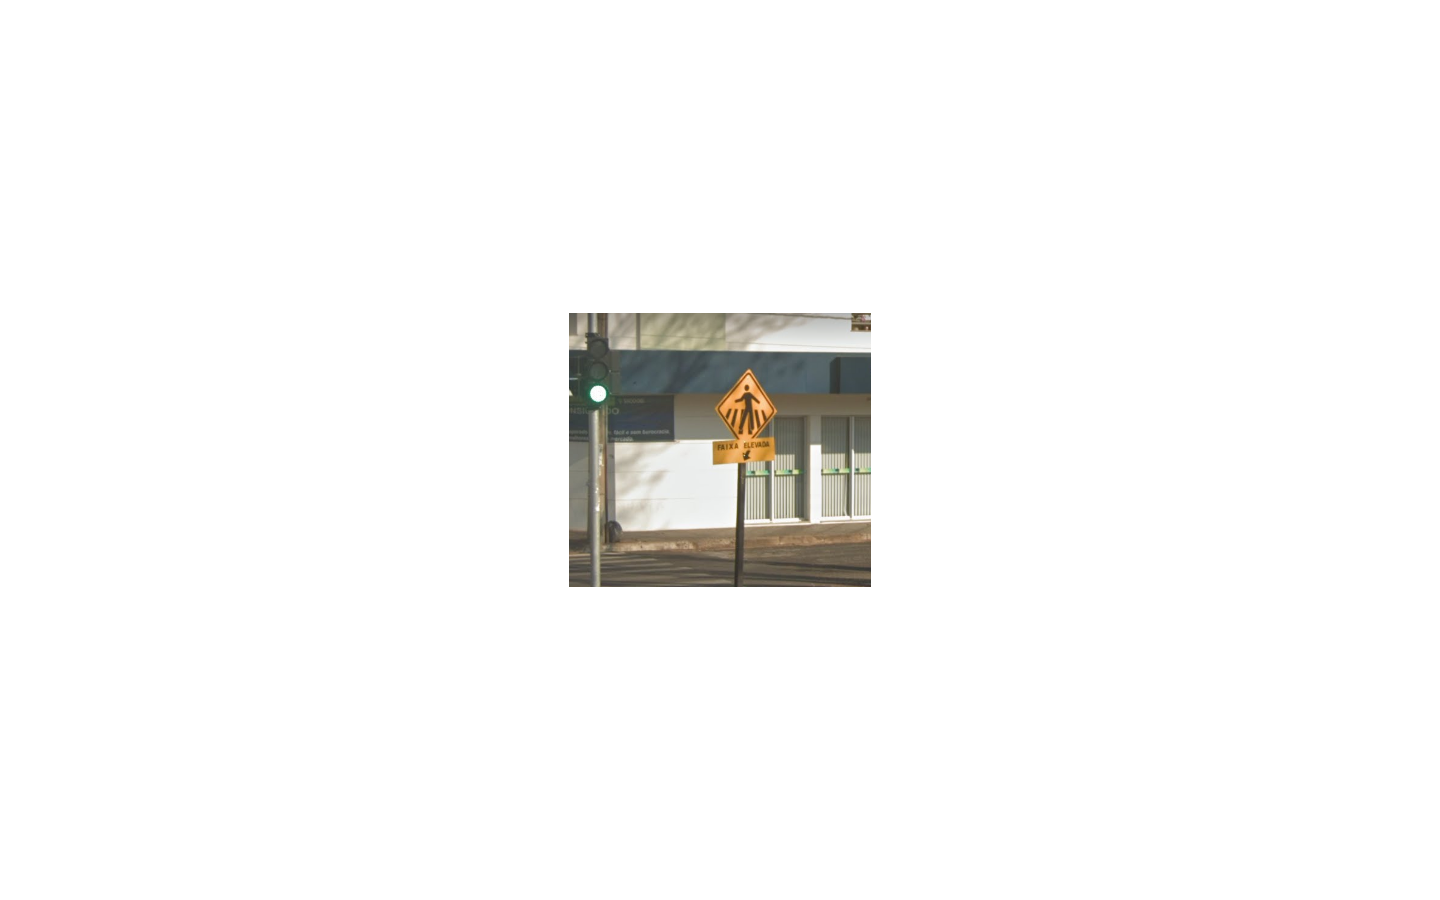telev: (713, 370, 777, 465)
